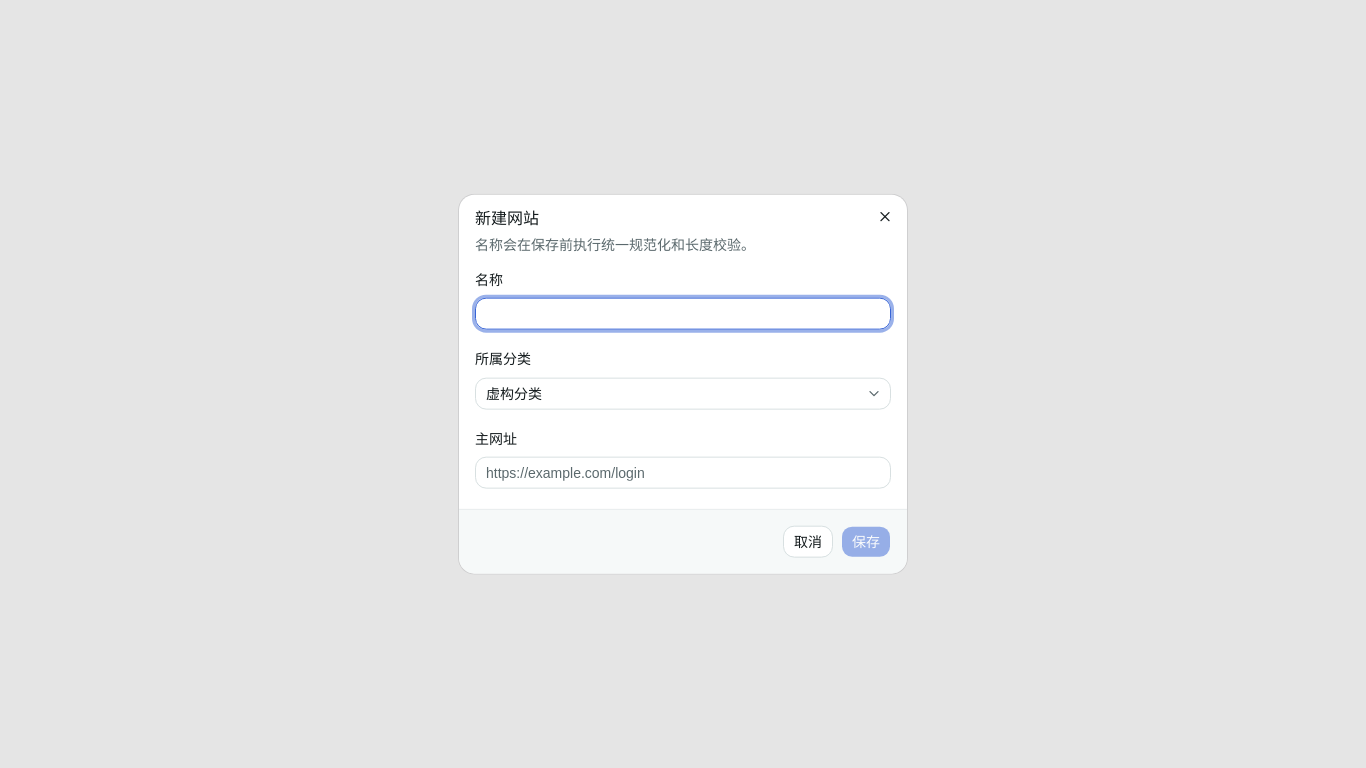
VaultEditorDialog website name resolution › fills an empty name when the URL loses focus
The width and height of the screenshot is (1366, 768).
Type "https://example.test/login" into the field labelled "主网址".
click(683, 472); type("https://example.test/login")  # box left=475, top=456, right=891, bottom=488
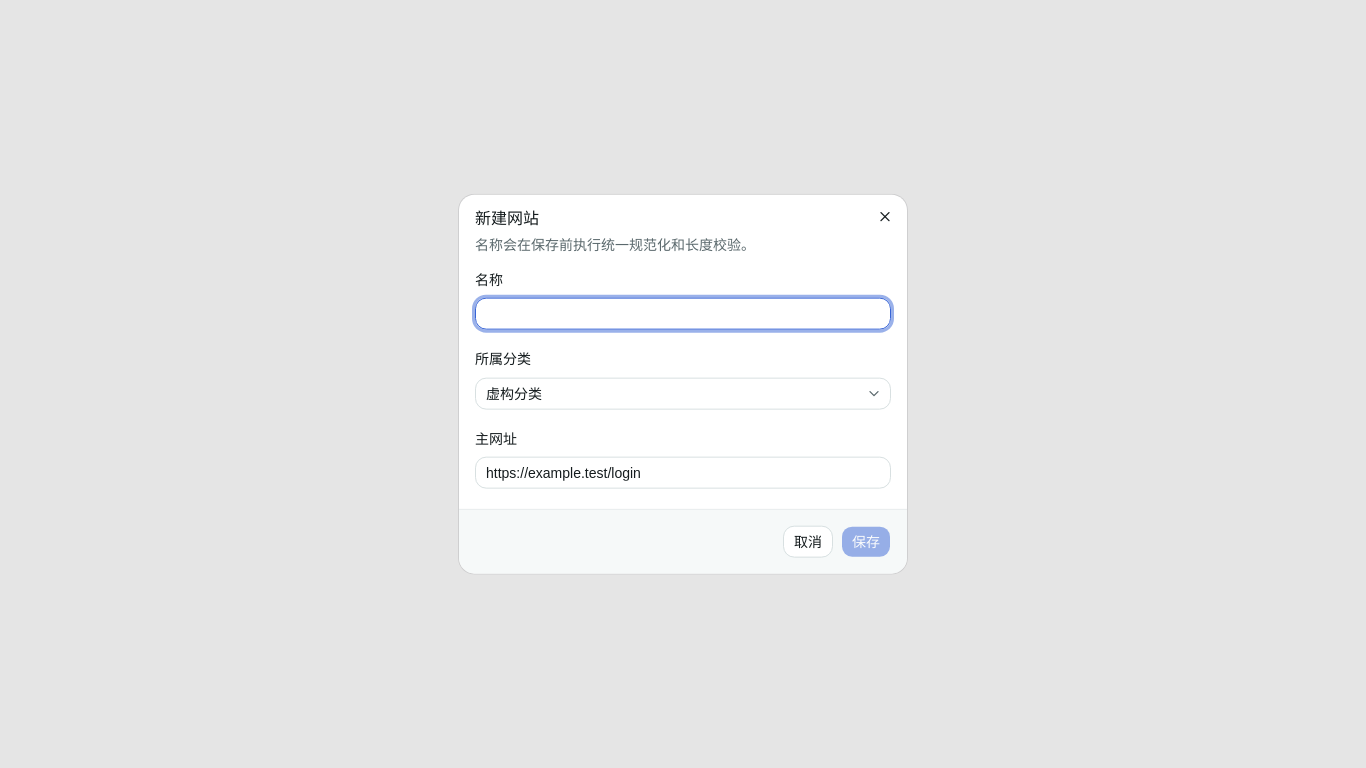
Leave the field labelled "主网址", box left=475, top=456, right=891, bottom=488
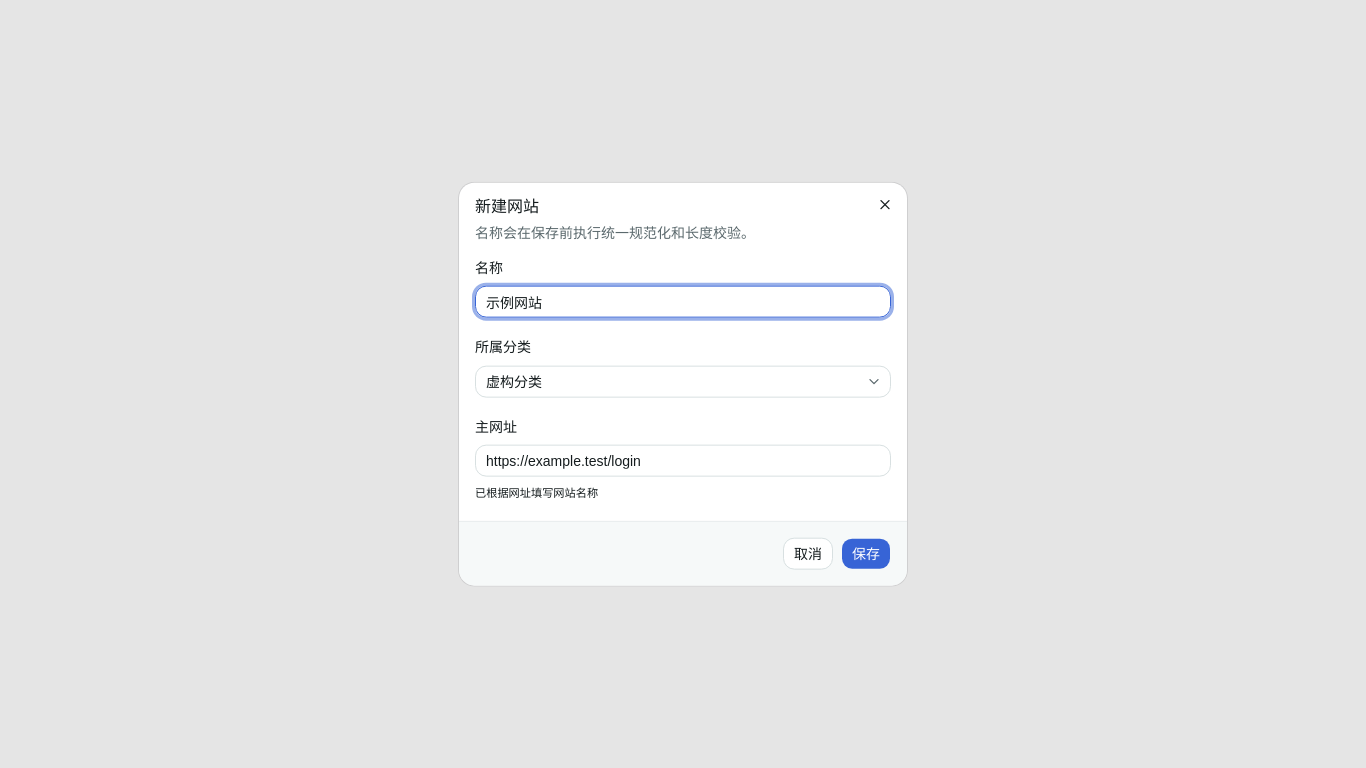
Result: the field labelled "名称" holds "示例网站" at left=475, top=286, right=891, bottom=318
